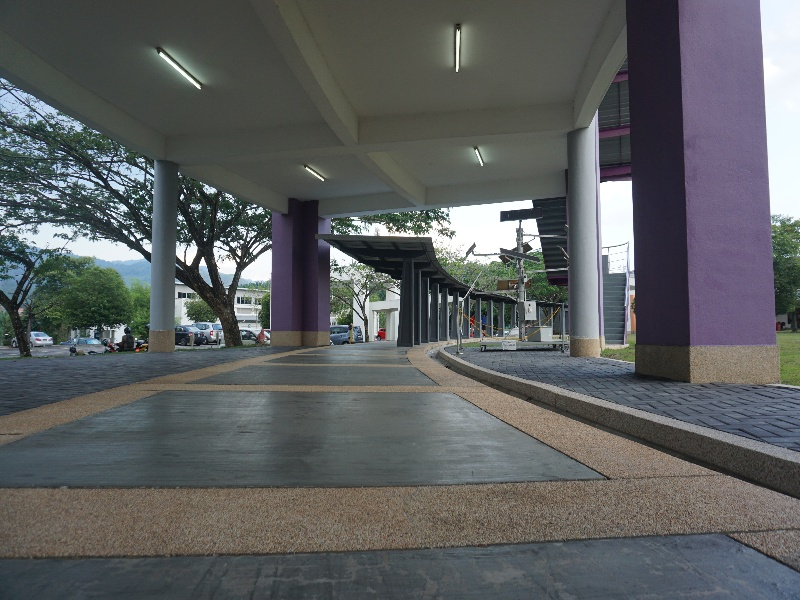Block D Pillar 4: (6, 6, 800, 502)
pillar: (615, 10, 788, 396), (259, 191, 336, 348), (566, 114, 603, 361), (140, 157, 185, 356)
